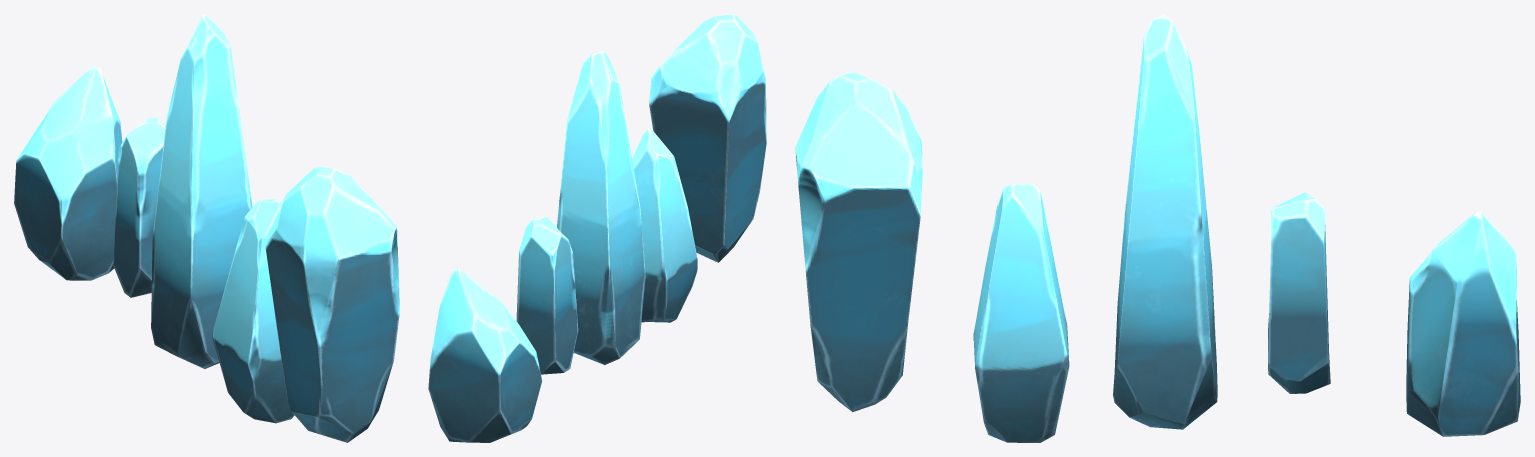
3 renders of one model, left to right at view 1: azimuth 30°, elevation 25°; view 2: azimuth 150°, elevation 25°; view 3: azimuth 270°, elevation 25°, orthographic. The views are drawn at different scales.
Parts seen in each view (by area): view 1: crystal_1_low, crystal_3_low, crystal_5_low, crystal_2_low, crystal_4_low; view 2: crystal_1_low, crystal_3_low, crystal_5_low, crystal_2_low, crystal_4_low; view 3: crystal_1_low, crystal_3_low, crystal_5_low, crystal_2_low, crystal_4_low.
Boxes of the visible parts, x1,y1,x2,y2 form: crystal_1_low: (265, 167, 399, 442); crystal_3_low: (151, 14, 252, 368); crystal_5_low: (14, 65, 122, 280); crystal_2_low: (212, 199, 294, 423); crystal_4_low: (113, 117, 165, 297); crystal_1_low: (649, 14, 766, 262); crystal_3_low: (557, 51, 645, 364); crystal_5_low: (428, 268, 542, 442); crystal_2_low: (632, 129, 697, 322); crystal_4_low: (516, 216, 578, 374); crystal_1_low: (795, 71, 922, 412); crystal_3_low: (1113, 14, 1217, 429); crystal_5_low: (1406, 211, 1520, 436); crystal_2_low: (973, 183, 1069, 442); crystal_4_low: (1268, 192, 1330, 393).
Size of the model in its own units: 0.9298 by 3.31 by 5.27.
Materials: 1 (1 with a texture image).
